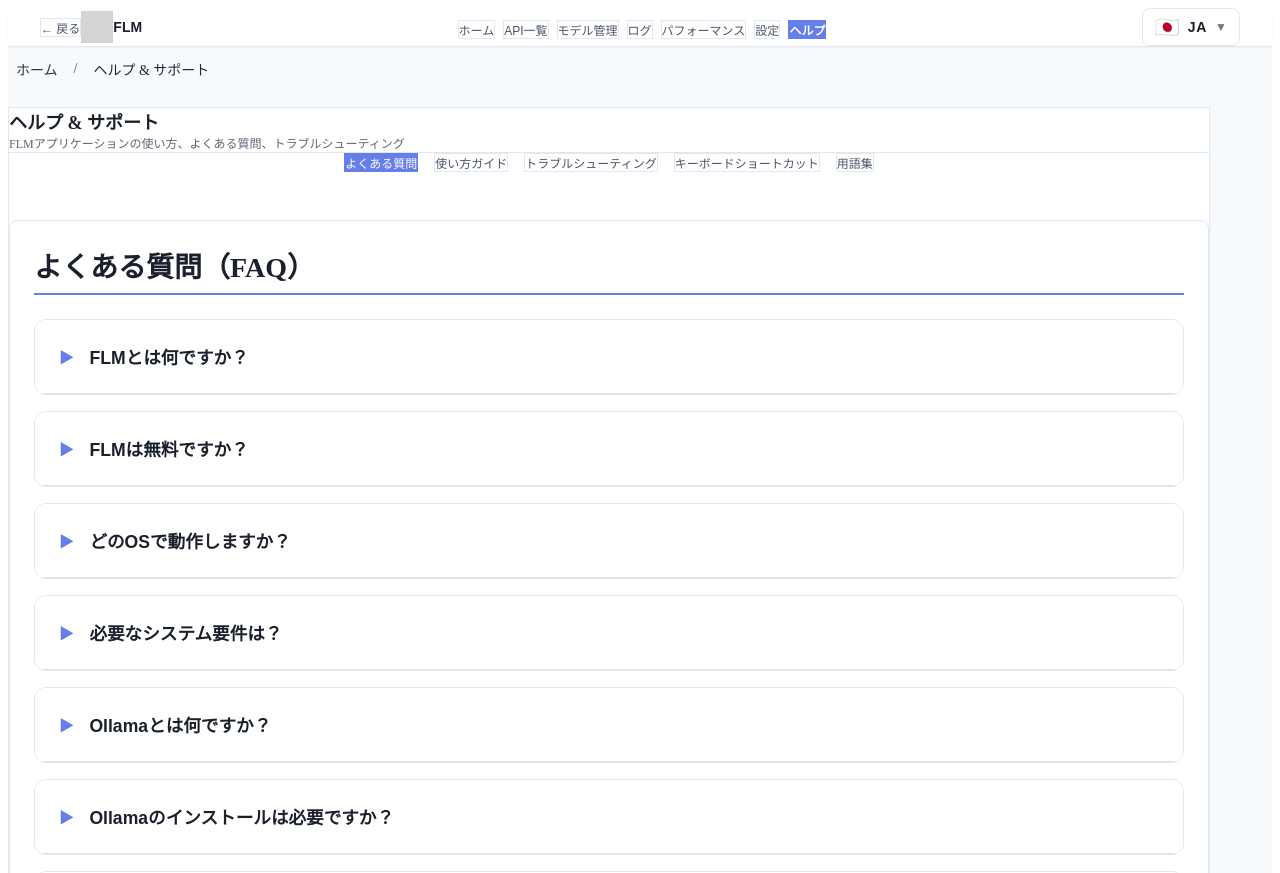
Test case: Help.tsx › セクション切り替え › トラブルシューティングボタンをクリックすると、トラブルシューティングセクションを表示する
Click the button "トラブルシューティング" at (591, 162), box top-left (524, 153), bottom-right (658, 172)
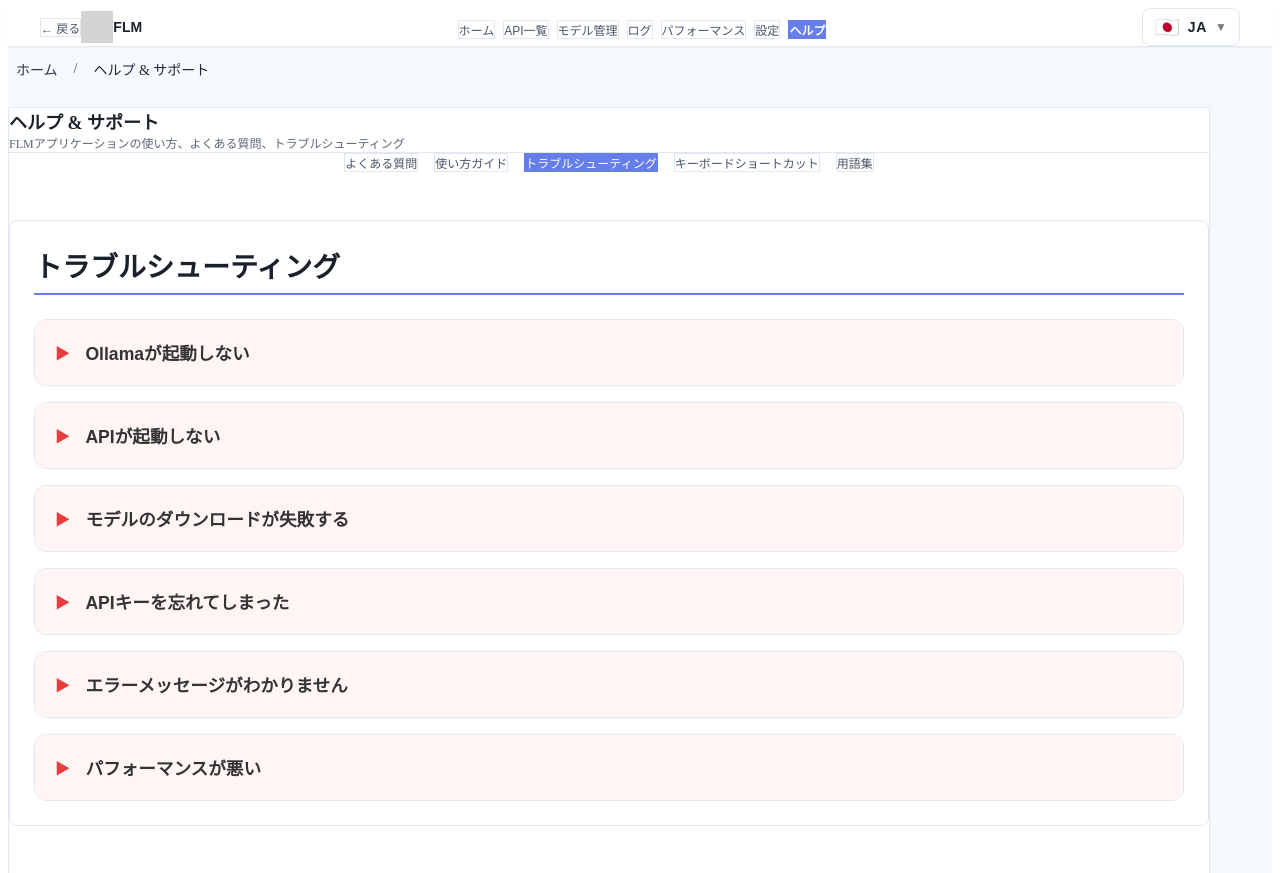
Expected: the heading "トラブルシューティング" is shown, top-left (34, 245), bottom-right (1184, 295)
